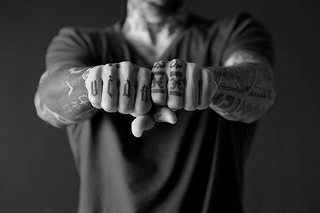fist: (88, 62, 152, 142), (154, 58, 216, 130)
